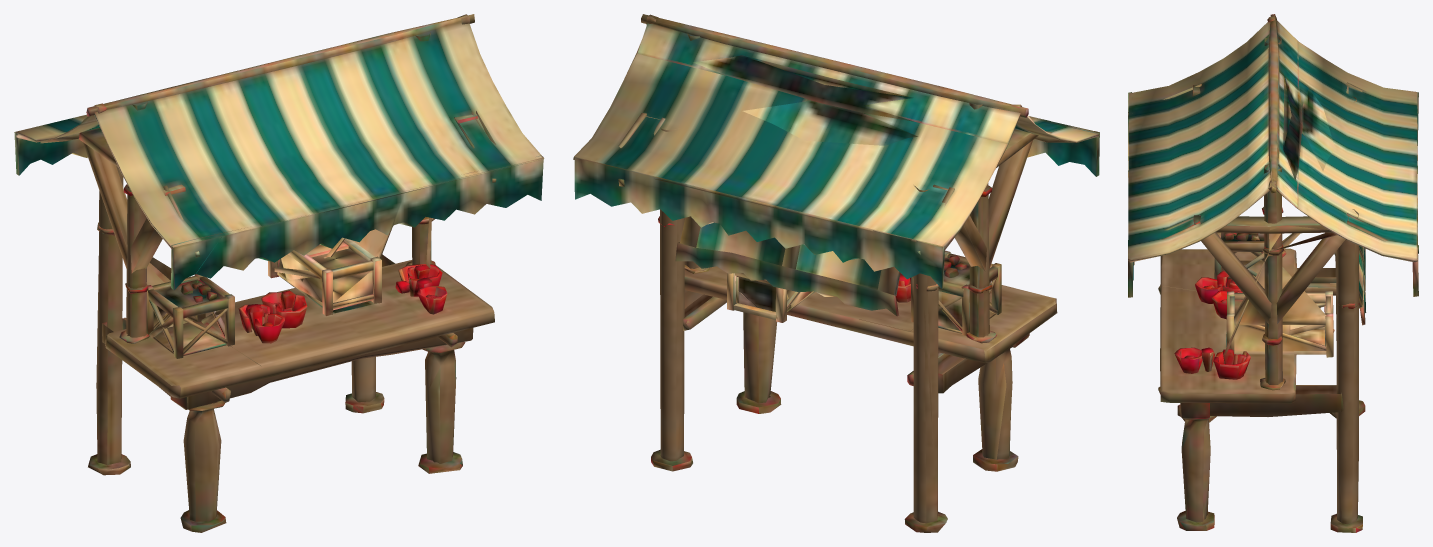
File: market-stall.lod1.glb
3 views of the same model, side by side, from view 1: azimuth 30°, elevation 25°; view 2: azimuth 150°, elevation 25°; view 3: azimuth 270°, elevation 25° (orthographic). The views are drawn at different scales.
Bounding box in the file's own units: 2.6 × 2.6 × 1.85.
Materials: 1 (1 with a texture image).
